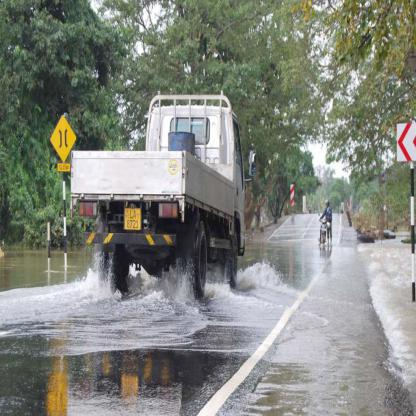Truck: (66, 96, 256, 294)
